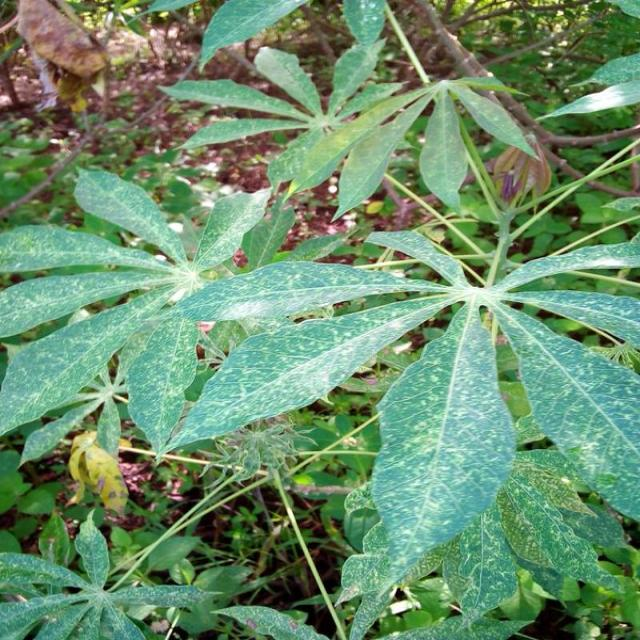cassava leaf: (337, 295, 518, 638)
